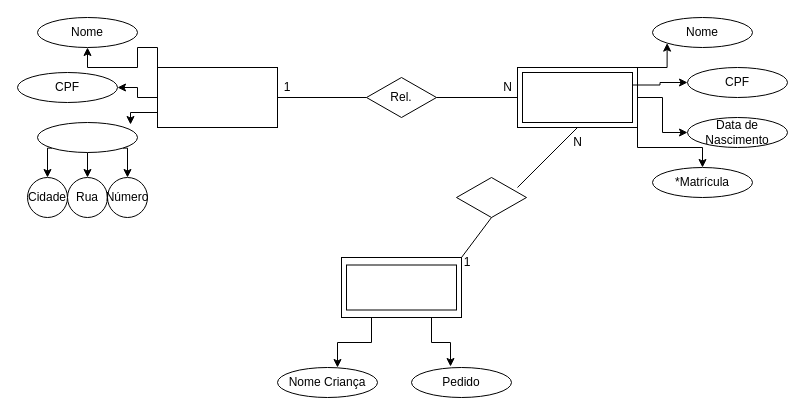
Some shapes in this 805 by 415 pixel diagram are drawn without their labels. Here are the shapes that lost their labels. From the top down, the centre of each, then its label:
point (217, 97): Responsável
point (577, 97): Criança
point (87, 137): Endereço
point (491, 197): Envia
point (401, 287): Cartinha
